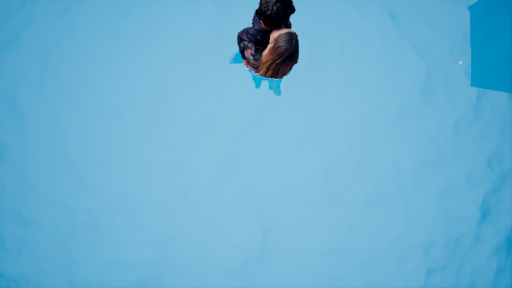person: (231, 10, 311, 107)
